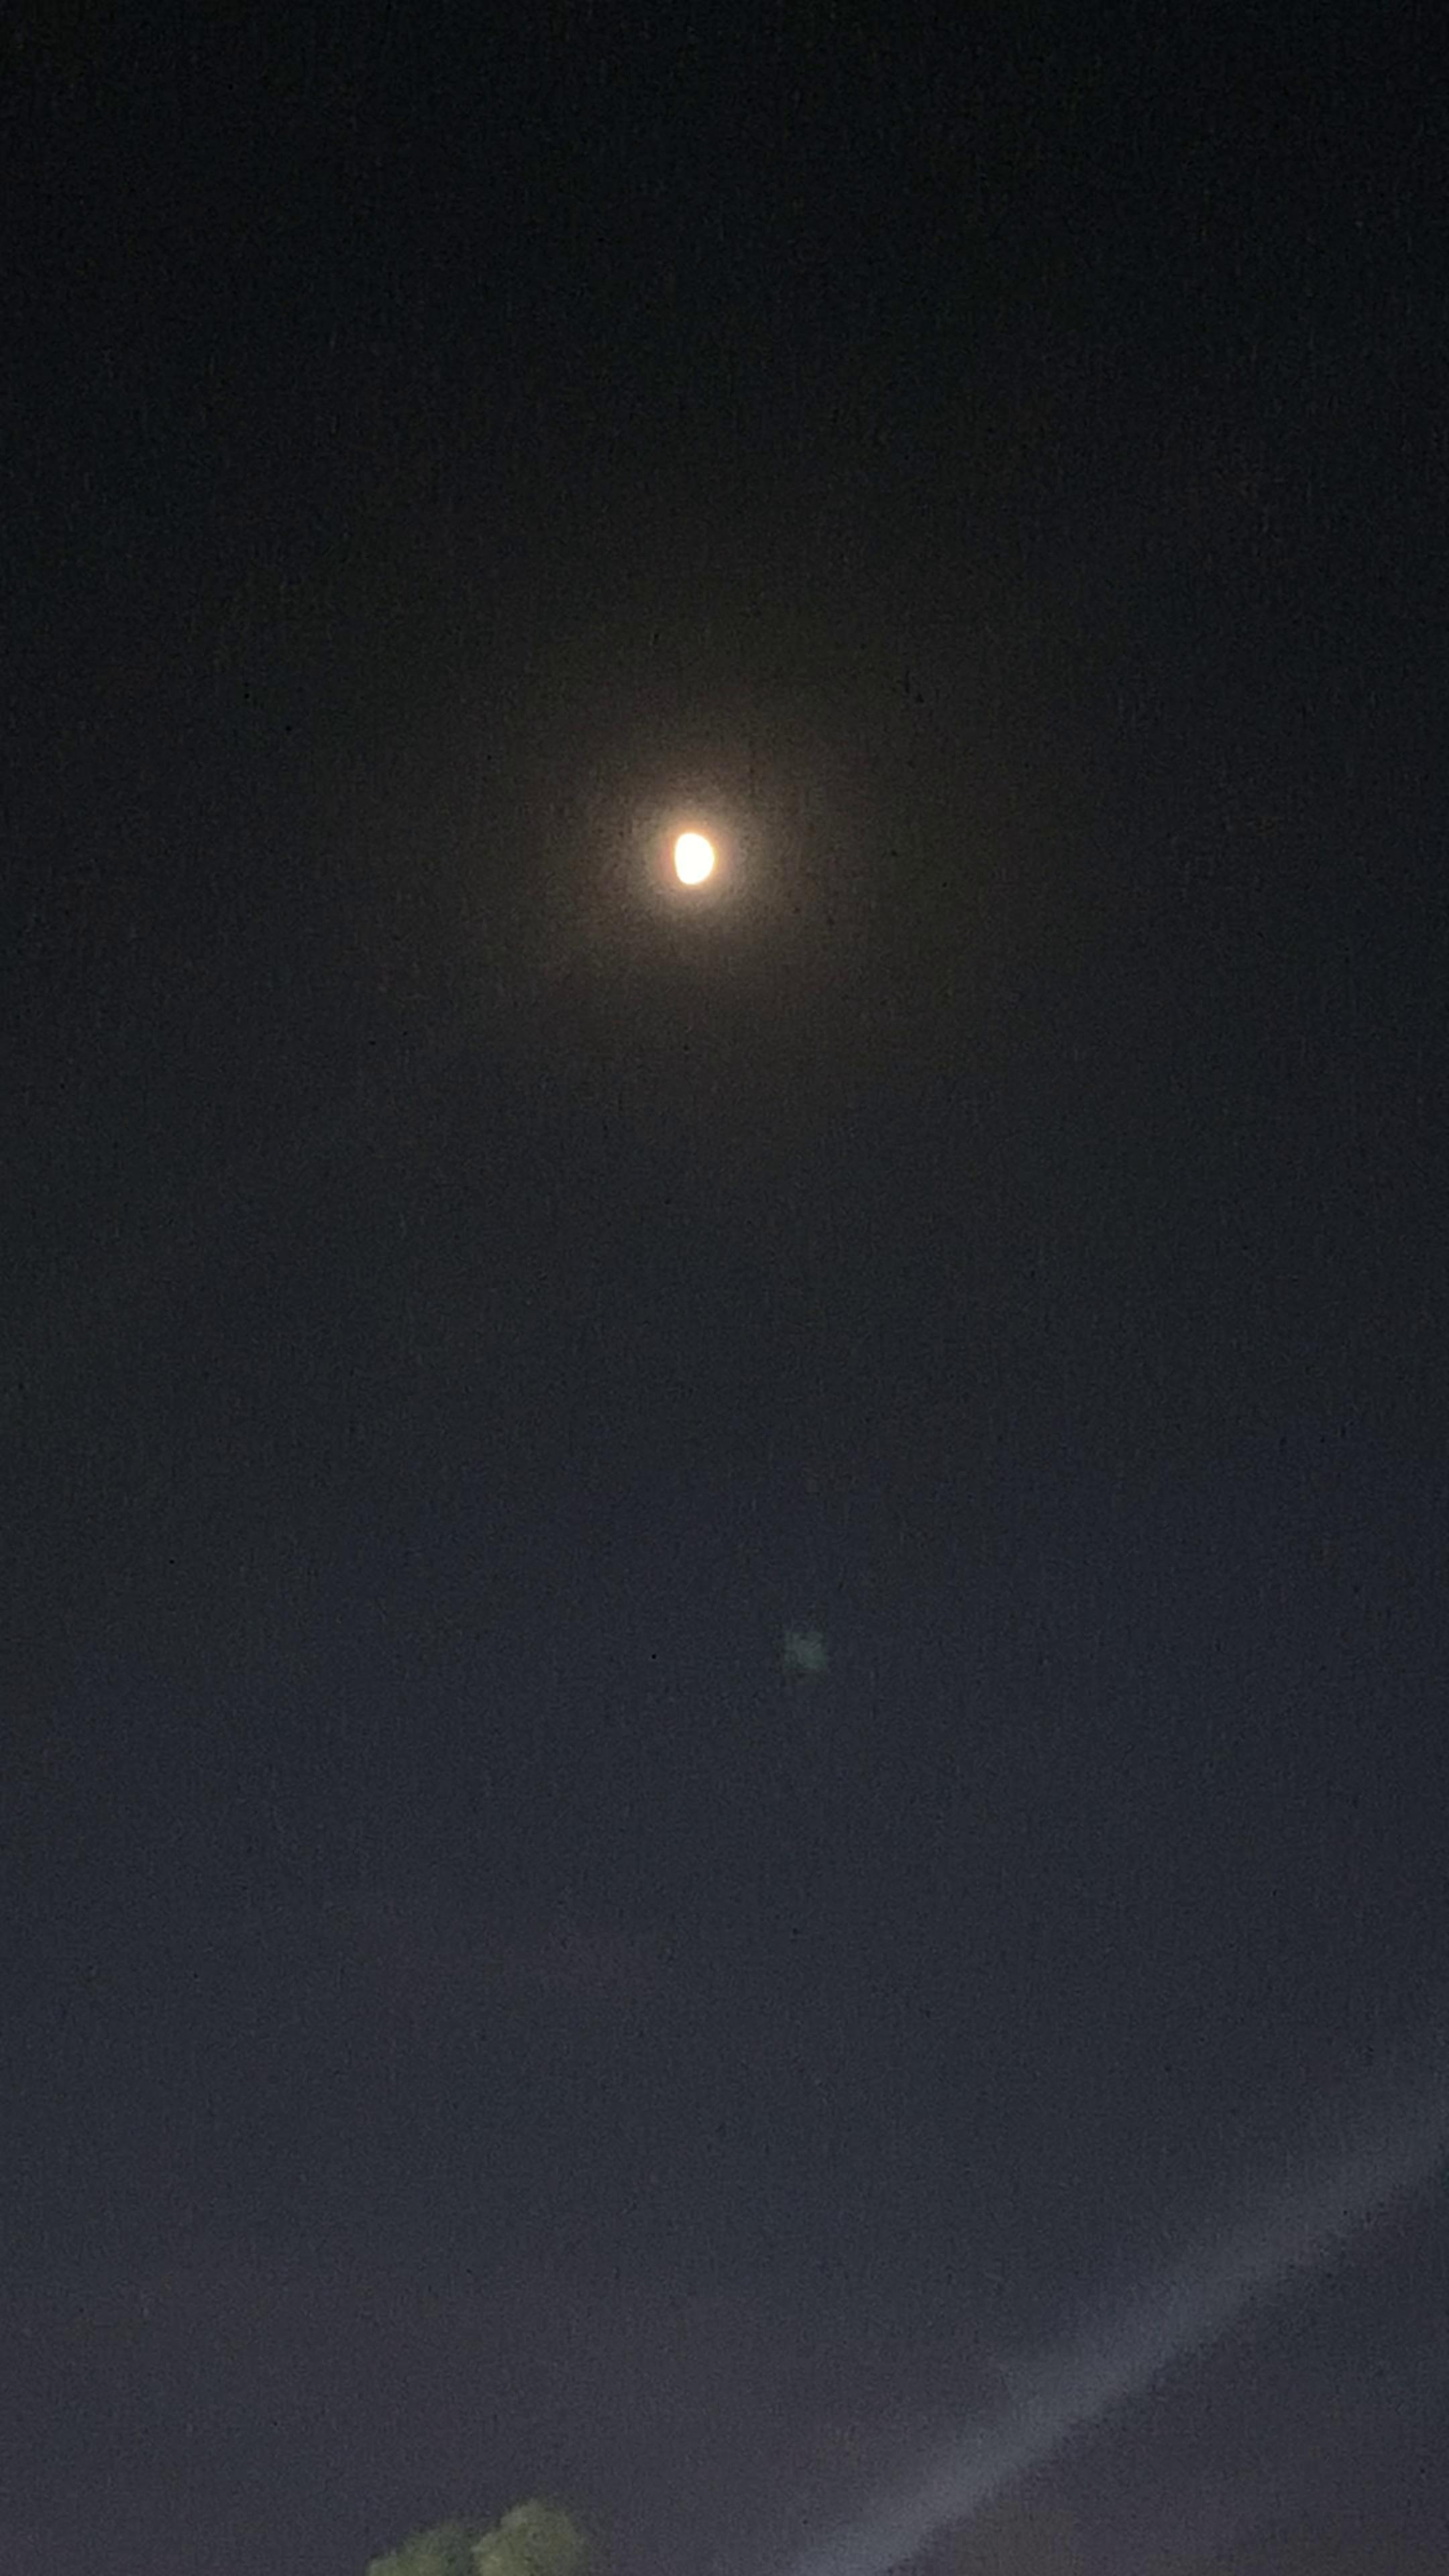moon: (662, 800, 780, 927)
